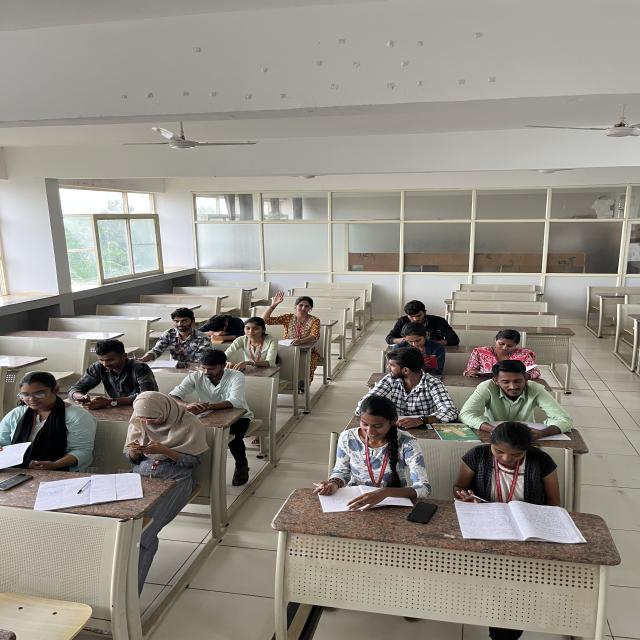Hand Rising: (262, 290, 319, 340)
Reading: (450, 422, 570, 530), (459, 327, 541, 383), (383, 321, 441, 371)
Sleeping: (199, 308, 250, 340)
Using Phone: (118, 385, 202, 468), (72, 339, 156, 412)
Writing: (315, 402, 422, 514), (123, 304, 201, 368)
